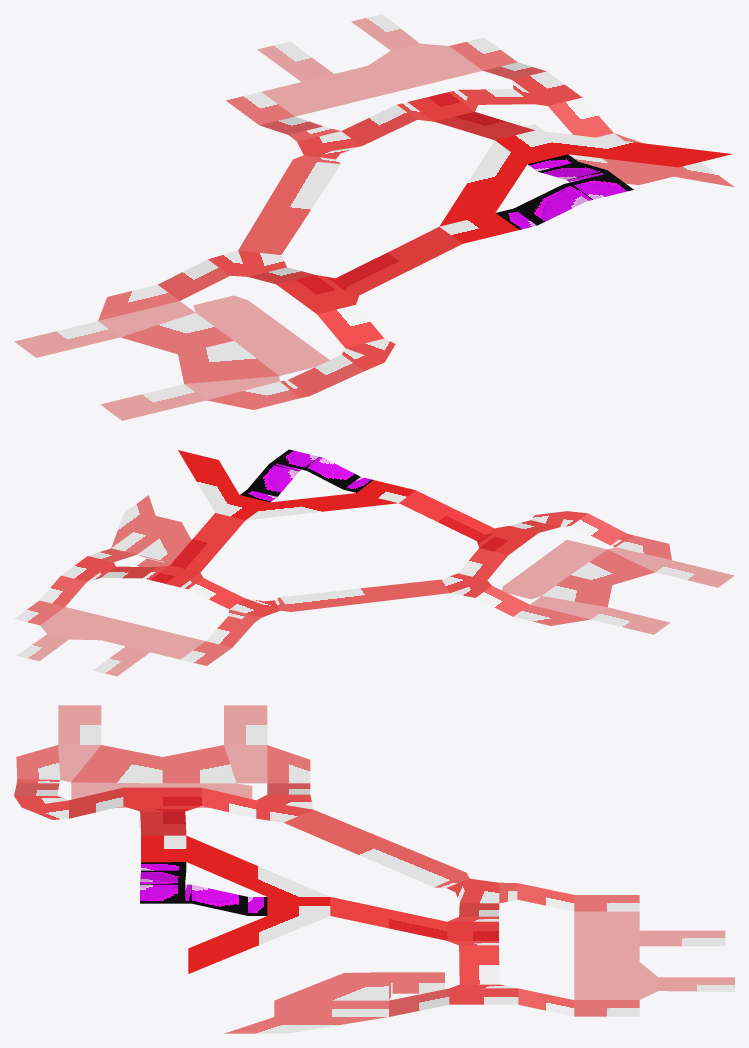
File: Navi_Origin.FBX
3 views of the same model, one above another, from view 1: azimuth 30°, elevation 25°; view 2: azimuth 150°, elevation 25°; view 3: azimuth 270°, elevation 25° (orthographic). The views are drawn at different scales.
Visible parts, largest first — view 1: Plane001; view 2: Plane001; view 3: Plane001.
Boxes of the visible parts, <box> form: Plane001: <box>14,14,734,420</box>; Plane001: <box>14,449,734,676</box>; Plane001: <box>14,705,734,1033</box>.
Bounding box in the file's own units: 7215 × 639 × 6690.
